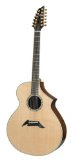guitar: (6, 5, 67, 156)
